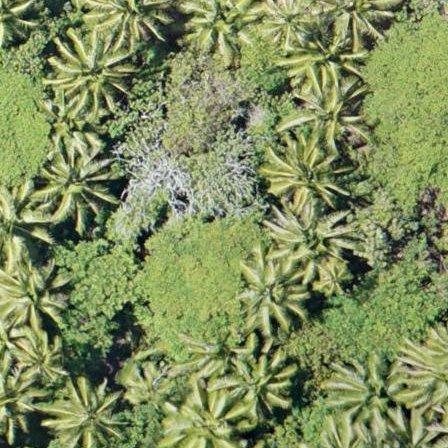palm_tree: (215, 240, 311, 342), (46, 25, 131, 116), (214, 337, 299, 427), (35, 136, 122, 223), (324, 350, 411, 435), (260, 128, 342, 214), (43, 370, 127, 448), (157, 381, 242, 448), (173, 1, 268, 58), (266, 208, 346, 274), (1, 261, 69, 333), (309, 1, 400, 52), (11, 332, 70, 394), (86, 1, 166, 41), (211, 440, 262, 448)
